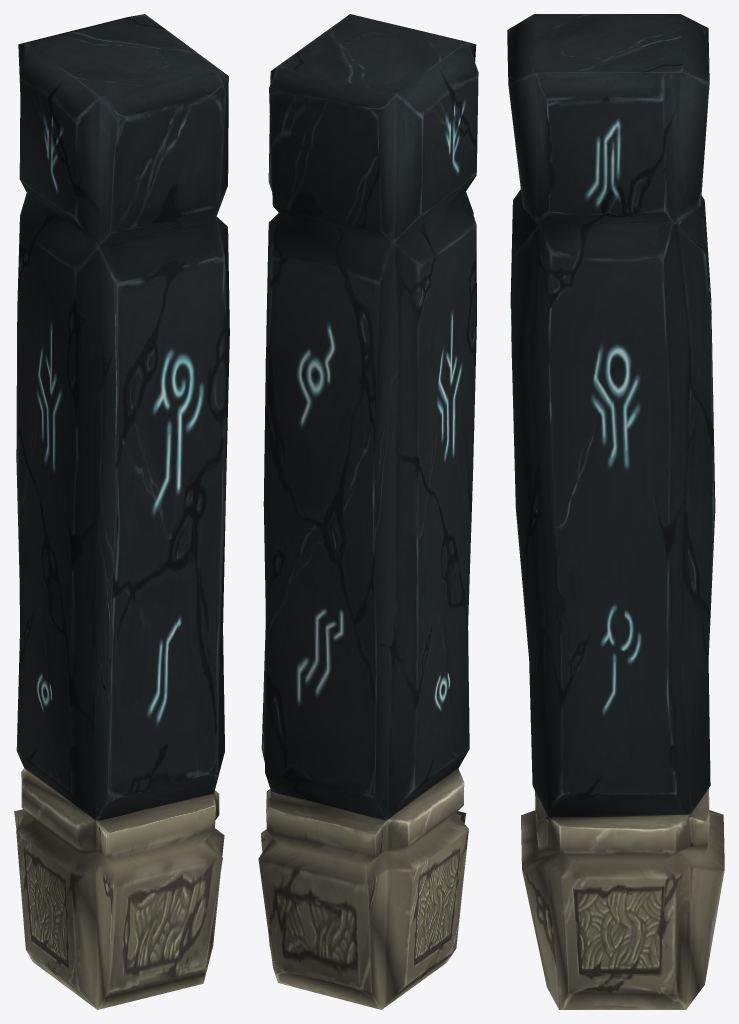
File: relic_ENV_bridgePillar.fbx
The picture shows the model from 3 angles, left to right: view 1: azimuth 30°, elevation 25°; view 2: azimuth 150°, elevation 25°; view 3: azimuth 270°, elevation 25°; orthographic projection. The views are drawn at different scales.
Parts seen in each view (by area): view 1: pCube2; view 2: pCube2; view 3: pCube2.
Boxes of the visible parts, x1,y1,x2,y2 form: pCube2: [14, 14, 229, 1009]; pCube2: [258, 14, 478, 1009]; pCube2: [507, 14, 724, 1009].
Size of the model in its own units: 1.21 by 6.84 by 1.44.
